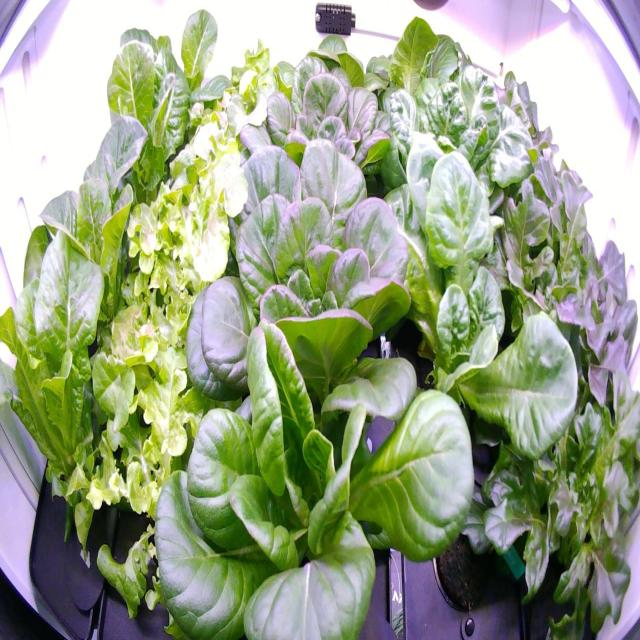Ready: (141, 291, 479, 638), (354, 134, 584, 507), (168, 129, 434, 417), (0, 216, 124, 542), (361, 56, 545, 232), (30, 108, 155, 332), (228, 49, 405, 195), (85, 32, 194, 226), (106, 3, 236, 142), (356, 12, 496, 122), (266, 25, 399, 113)
